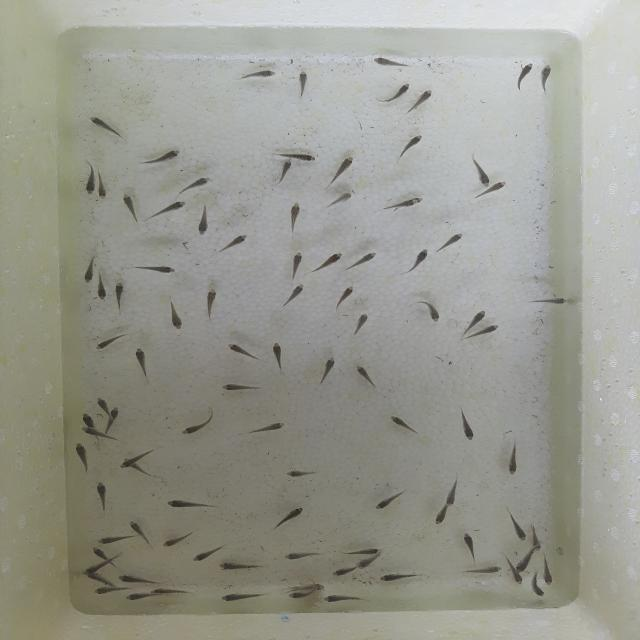fingerling: (86, 112, 131, 145), (323, 155, 360, 191), (138, 145, 186, 172), (270, 502, 310, 534), (502, 438, 531, 480), (179, 409, 221, 436), (175, 172, 218, 198), (410, 298, 448, 326), (453, 405, 480, 443), (395, 131, 423, 166), (509, 60, 539, 92), (402, 247, 434, 277), (346, 309, 376, 341), (163, 497, 219, 514), (216, 230, 252, 256), (388, 412, 424, 438), (198, 285, 223, 322), (149, 199, 189, 222), (282, 197, 304, 238), (373, 488, 414, 510), (374, 81, 414, 103), (435, 229, 465, 258), (352, 363, 382, 392), (276, 282, 307, 310), (220, 379, 270, 396), (240, 420, 290, 437), (166, 292, 186, 334), (222, 342, 262, 363), (314, 248, 346, 274), (458, 531, 484, 563), (131, 345, 154, 381), (213, 559, 271, 573), (267, 340, 289, 376), (92, 479, 114, 515), (192, 203, 215, 237), (331, 282, 358, 310), (374, 570, 428, 584), (231, 68, 278, 84), (324, 189, 354, 214), (468, 154, 490, 188), (128, 262, 181, 276), (92, 332, 129, 352), (348, 248, 377, 273), (367, 55, 412, 71), (158, 530, 198, 548), (190, 542, 224, 563), (120, 190, 141, 223), (75, 440, 93, 478), (286, 249, 306, 282), (318, 355, 338, 388), (215, 590, 269, 602), (411, 88, 433, 116), (294, 66, 312, 100), (507, 512, 527, 542), (112, 281, 130, 314), (80, 253, 98, 286), (528, 294, 572, 307), (538, 62, 555, 94), (443, 477, 461, 507), (277, 468, 322, 480), (92, 534, 140, 545), (318, 594, 370, 604), (540, 554, 556, 586), (274, 160, 293, 186), (378, 198, 418, 210), (281, 550, 321, 562), (115, 573, 158, 584), (467, 564, 505, 576), (430, 508, 455, 526), (469, 306, 492, 324), (515, 552, 533, 574), (490, 180, 512, 197), (85, 162, 96, 196), (97, 171, 109, 202), (96, 274, 108, 304), (343, 546, 379, 556), (530, 524, 542, 552), (531, 576, 545, 600), (476, 324, 500, 337), (126, 516, 143, 534), (329, 564, 352, 577), (149, 588, 191, 595), (88, 546, 112, 558), (122, 592, 150, 602), (92, 585, 123, 594), (84, 562, 106, 574), (293, 153, 319, 163), (356, 557, 372, 571), (511, 572, 525, 586), (78, 412, 95, 423), (286, 591, 309, 599), (117, 460, 137, 469), (96, 396, 108, 411), (80, 426, 95, 436), (110, 407, 122, 419), (312, 583, 325, 592)
